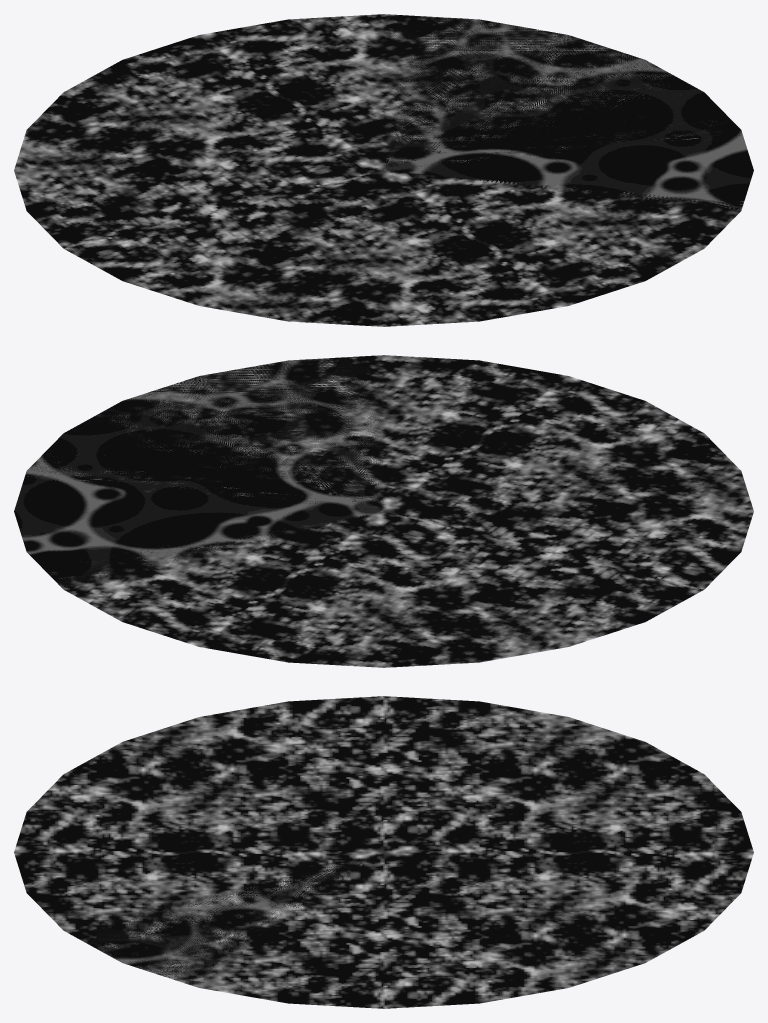
The model's file is pool.dae.
3 renders of one model, top to bottom at view 1: azimuth 30°, elevation 25°; view 2: azimuth 150°, elevation 25°; view 3: azimuth 270°, elevation 25°, orthographic.
Parts seen in each view (by area): view 1: n0b1, n1b0; view 2: n0b1, n1b0; view 3: n0b1, n1b0.
Boxes of the visible parts, <box> form: n0b1: <box>14,14,743,326</box>; n1b0: <box>384,15,753,209</box>; n0b1: <box>27,355,753,667</box>; n1b0: <box>14,356,383,587</box>; n0b1: <box>14,696,753,1008</box>; n1b0: <box>70,853,381,983</box>.
Size of the model in its own units: 7071 by 9.92e-05 by 7071.
